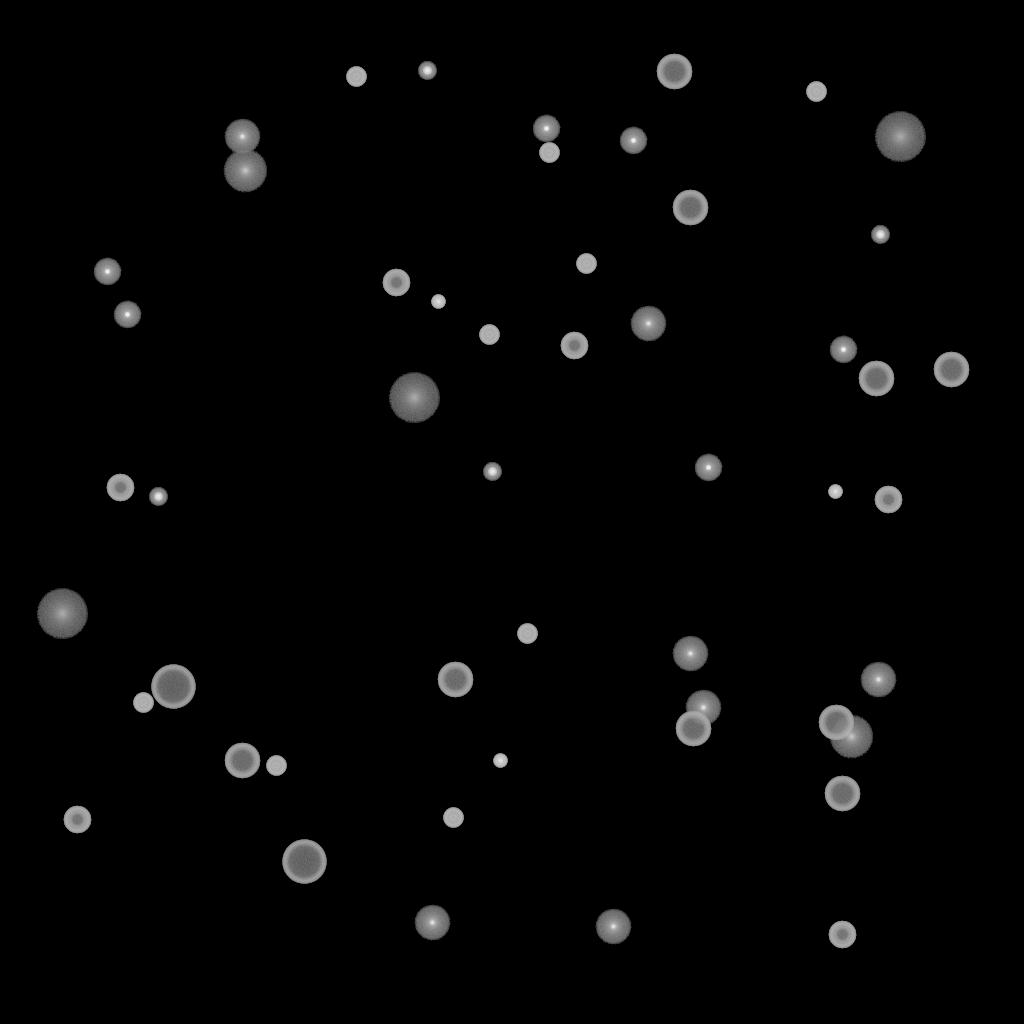depth:-10: (694, 454, 722, 482), (829, 336, 857, 364), (113, 301, 141, 329), (619, 127, 647, 155), (532, 115, 560, 143), (93, 258, 121, 286)
depth:-20: (871, 226, 889, 244), (418, 62, 436, 80), (149, 488, 167, 506), (483, 463, 501, 481)
depth:-30: (431, 295, 445, 309), (493, 754, 507, 768), (828, 485, 842, 499)
depth:-40: (576, 254, 596, 274), (517, 624, 537, 644), (479, 325, 499, 345), (346, 67, 366, 87), (133, 693, 153, 713), (266, 756, 286, 776), (443, 808, 463, 828), (806, 82, 826, 102), (539, 143, 559, 163)
depth:-50: (874, 486, 902, 514), (63, 806, 91, 834), (560, 332, 588, 360), (106, 474, 134, 502), (382, 269, 410, 297), (828, 921, 856, 949)
depth:-60: (224, 743, 260, 779), (675, 711, 711, 747), (824, 776, 860, 812), (672, 190, 708, 226), (933, 352, 969, 388), (656, 54, 692, 90), (858, 361, 894, 397), (818, 705, 854, 741), (437, 662, 473, 698)
depth:-70: (151, 665, 195, 709), (282, 840, 326, 884)
depth:0: (630, 306, 666, 342), (860, 662, 896, 698), (414, 905, 450, 941), (672, 636, 708, 672), (224, 119, 260, 155), (685, 690, 721, 726), (595, 909, 631, 945)
depth:10: (829, 715, 873, 759), (223, 149, 267, 193)
depth:20: (874, 112, 926, 162), (36, 589, 88, 639), (388, 373, 440, 423)
